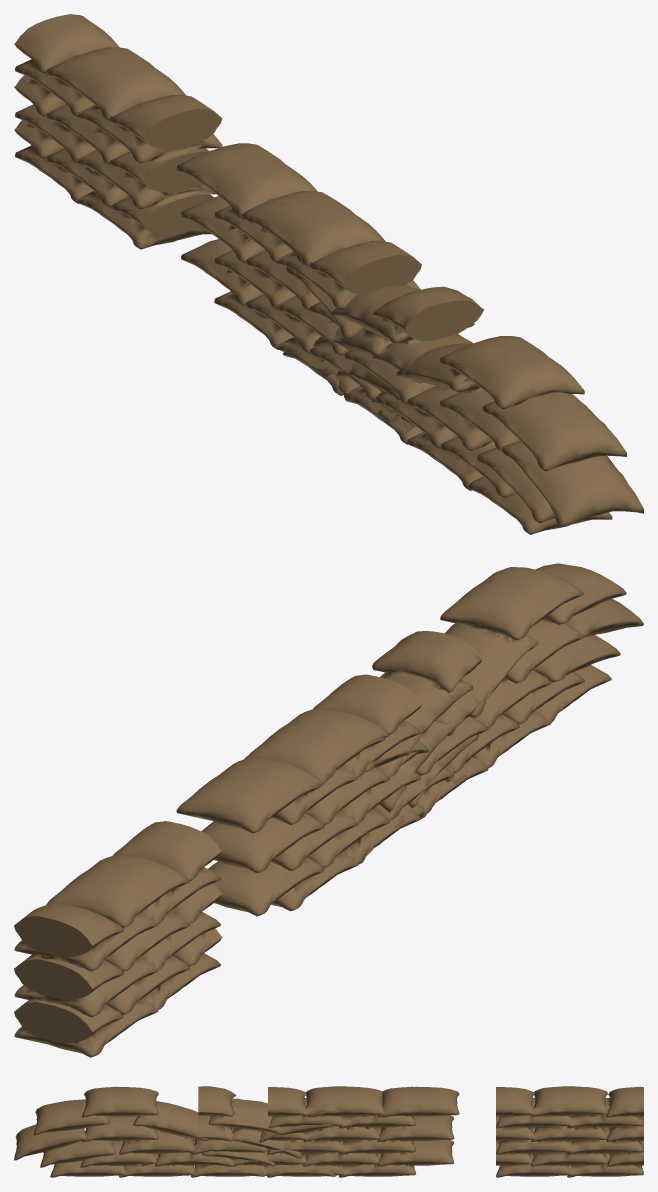
File: barricades_R.fbx
3 views of the same model, one above another, from view 1: azimuth 30°, elevation 25°; view 2: azimuth 150°, elevation 25°; view 3: azimuth 270°, elevation 25° (orthographic). The views are drawn at different scales.
Visible parts, largest first — view 1: Sandbag_LQ, Sandbag_LQ.001, Sandbag_LQ.017, Sandbag_LQ.006, Sandbag_LQ.016, Sandbag_LQ.014, Sandbag_LQ.012, Sandbag_LQ.018, Sandbag_LQ.008, Sandbag_LQ.007, Sandbag_LQ.015, Sandbag_LQ.002 (+4 smaller); view 2: Sandbag_LQ, Sandbag_LQ.017, Sandbag_LQ.001, Sandbag_LQ.006, Sandbag_LQ.014, Sandbag_LQ.018, Sandbag_LQ.022, Sandbag_LQ.029, Sandbag_LQ.016, Sandbag_LQ.008, Sandbag_LQ.007, Sandbag_LQ.012 (+4 smaller); view 3: Sandbag_LQ, Sandbag_LQ.001, Sandbag_LQ.006, Sandbag_LQ.017, Sandbag_LQ.014, Sandbag_LQ.016, Sandbag_LQ.018, Sandbag_LQ.012, Sandbag_LQ.029, Sandbag_LQ.022, Sandbag_LQ.007, Sandbag_LQ.008 (+18 smaller).
Boxes of the visible parts, left/top/right/bottom form: Sandbag_LQ: left=14, top=14, right=222, bottom=249; Sandbag_LQ.001: left=214, top=160, right=421, bottom=391; Sandbag_LQ.017: left=213, top=159, right=547, bottom=489; Sandbag_LQ.006: left=282, top=284, right=483, bottom=434; Sandbag_LQ.016: left=482, top=392, right=626, bottom=471; Sandbag_LQ.014: left=439, top=336, right=584, bottom=409; Sandbag_LQ.012: left=502, top=440, right=643, bottom=527; Sandbag_LQ.018: left=176, top=143, right=297, bottom=194; Sandbag_LQ.008: left=477, top=447, right=555, bottom=523; Sandbag_LQ.007: left=439, top=388, right=519, bottom=451; Sandbag_LQ.015: left=467, top=476, right=612, bottom=534; Sandbag_LQ.002: left=407, top=386, right=492, bottom=450; Sandbag_LQ: left=14, top=821, right=222, bottom=1057; Sandbag_LQ.017: left=233, top=581, right=552, bottom=911; Sandbag_LQ.001: left=222, top=674, right=422, bottom=904; Sandbag_LQ.006: left=358, top=631, right=482, bottom=864; Sandbag_LQ.014: left=440, top=567, right=583, bottom=640; Sandbag_LQ.018: left=176, top=764, right=292, bottom=833; Sandbag_LQ.022: left=208, top=857, right=312, bottom=916; Sandbag_LQ.029: left=201, top=813, right=311, bottom=873; Sandbag_LQ.016: left=535, top=563, right=626, bottom=624; Sandbag_LQ.008: left=532, top=635, right=620, bottom=682; Sandbag_LQ.007: left=504, top=620, right=583, bottom=683; Sandbag_LQ.012: left=565, top=599, right=643, bottom=637; Sandbag_LQ: left=496, top=1086, right=643, bottom=1177; Sandbag_LQ.001: left=268, top=1086, right=415, bottom=1177; Sandbag_LQ.006: left=198, top=1086, right=335, bottom=1176; Sandbag_LQ.017: left=119, top=1087, right=416, bottom=1176; Sandbag_LQ.014: left=81, top=1086, right=158, bottom=1117; Sandbag_LQ.016: left=33, top=1099, right=109, bottom=1135; Sandbag_LQ.018: left=382, top=1086, right=459, bottom=1117; Sandbag_LQ.012: left=14, top=1124, right=86, bottom=1160; Sandbag_LQ.029: left=377, top=1115, right=454, bottom=1141; Sandbag_LQ.022: left=377, top=1140, right=454, bottom=1166; Sandbag_LQ.007: left=81, top=1116, right=158, bottom=1141; Sandbag_LQ.008: left=40, top=1131, right=115, bottom=1167.
Size of the model in its own units: 325 by 509 by 3581.
